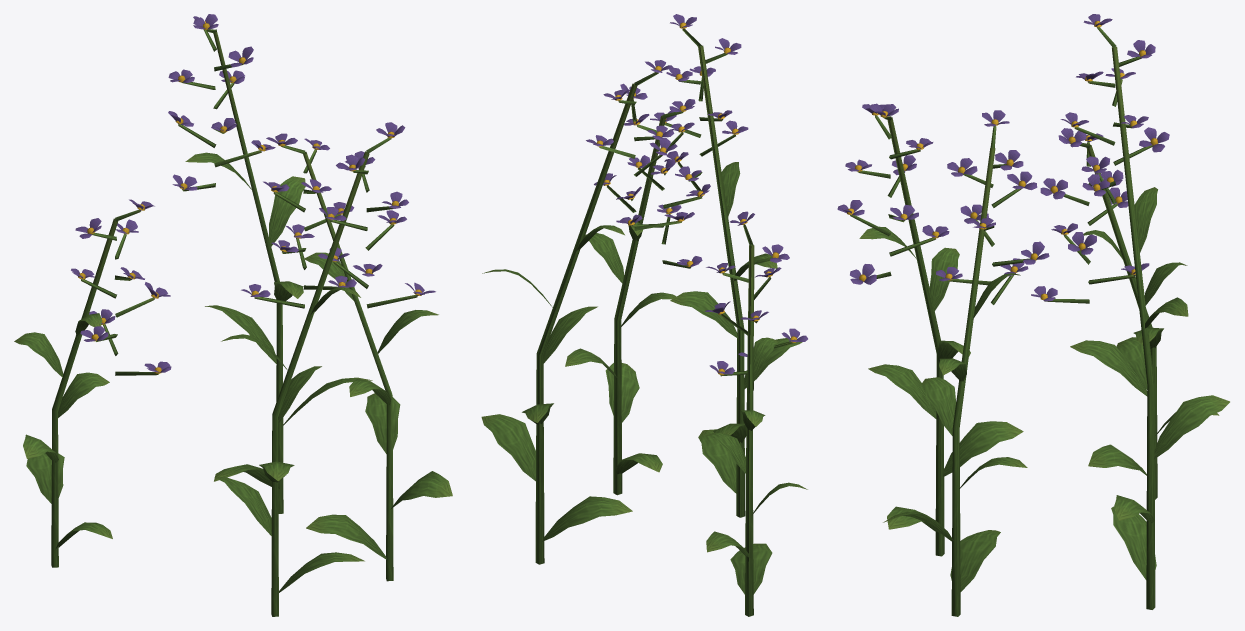
File: MeadowClary_B.fbx
3 views of the same model, side by side, from view 1: azimuth 30°, elevation 25°; view 2: azimuth 150°, elevation 25°; view 3: azimuth 270°, elevation 25° (orthographic). The views are drawn at different scales.
Visible parts, largest first — view 1: MeadowClary_B_LOD0; view 2: MeadowClary_B_LOD0; view 3: MeadowClary_B_LOD0.
Part boxes in pixels (box(x1,y1,x2,y2)): MeadowClary_B_LOD0: box(14, 14, 452, 616); MeadowClary_B_LOD0: box(481, 14, 807, 616); MeadowClary_B_LOD0: box(837, 14, 1229, 616).
Size of what is drawn, in the model's own units: 22.42 by 33.15 by 21.78.
Materials: 1 (1 with a texture image).
